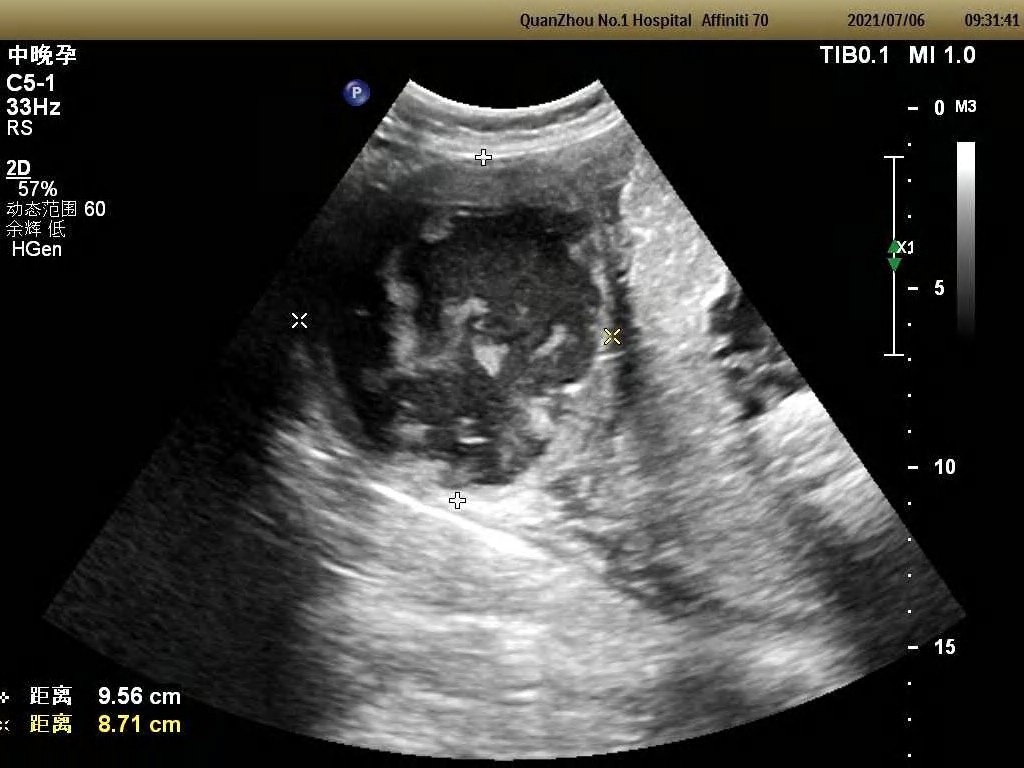肌瘤: (340, 183, 595, 475)
